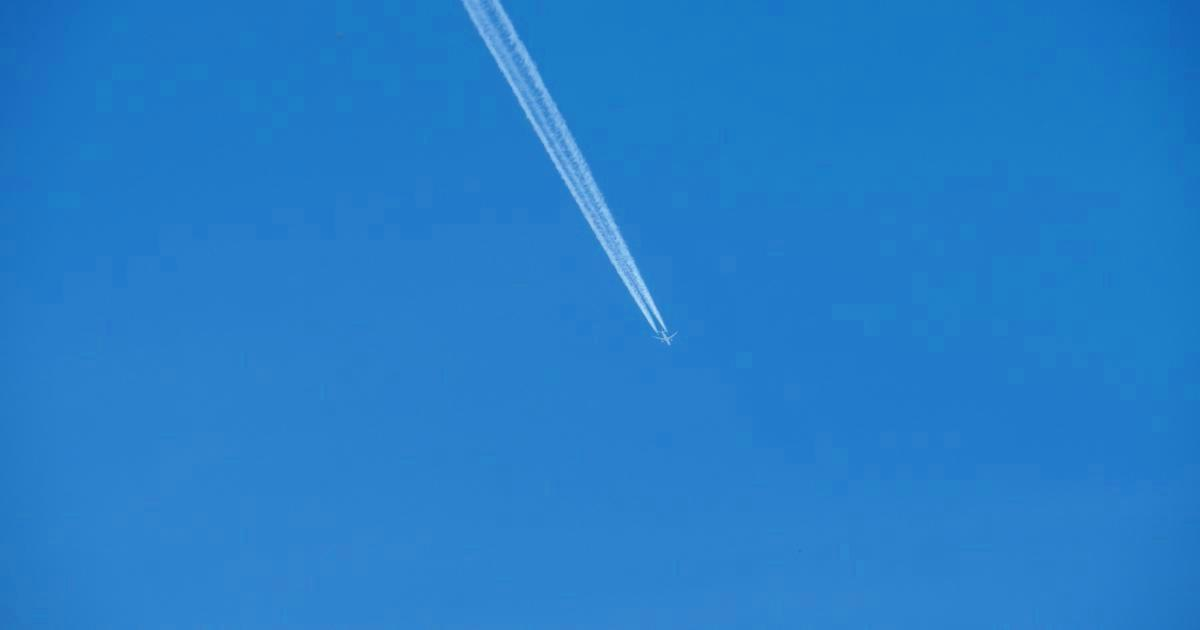Plane: (452, 19, 748, 355)
